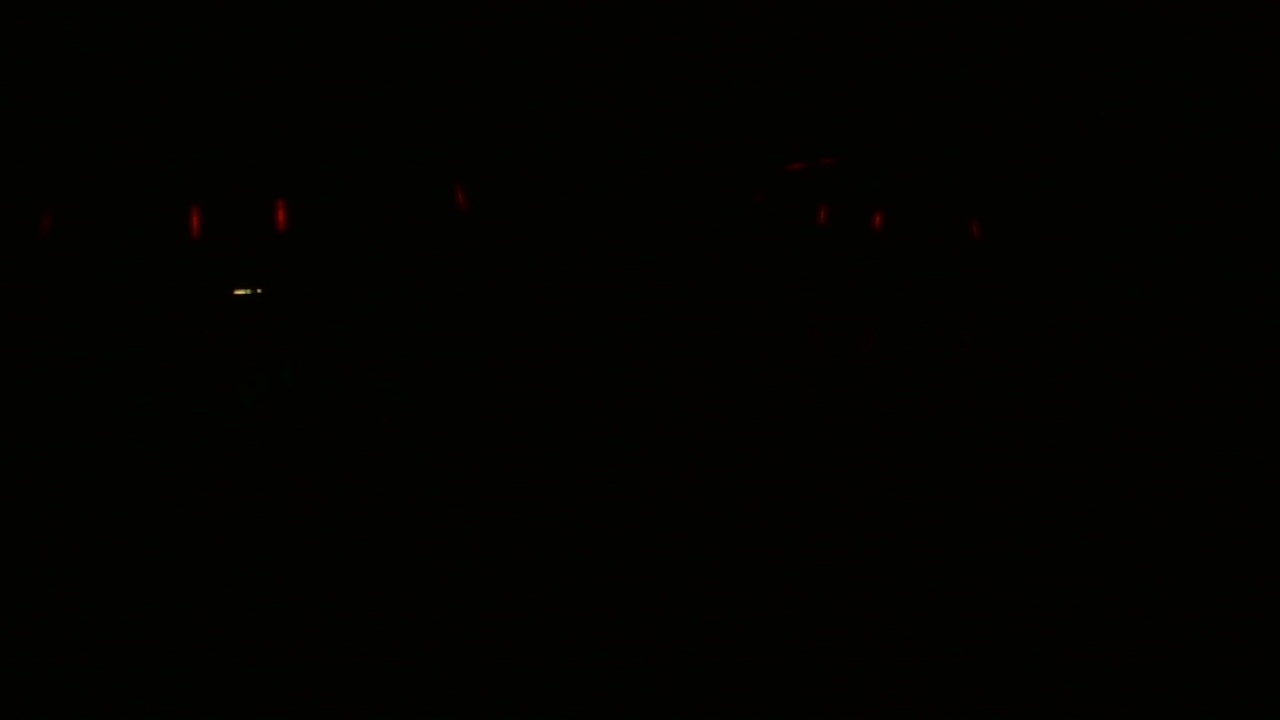pair1: (183, 193, 294, 247), (818, 203, 884, 232)
